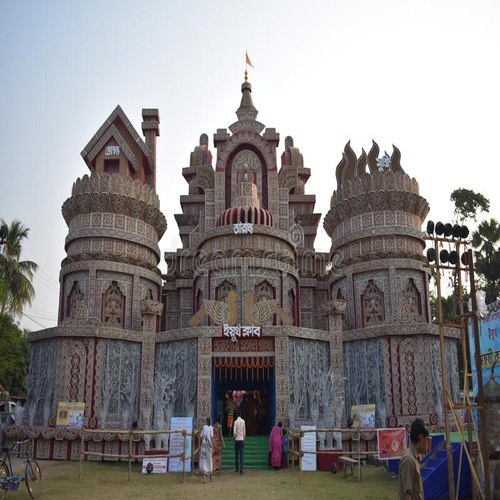Temple: (41, 53, 461, 459)
